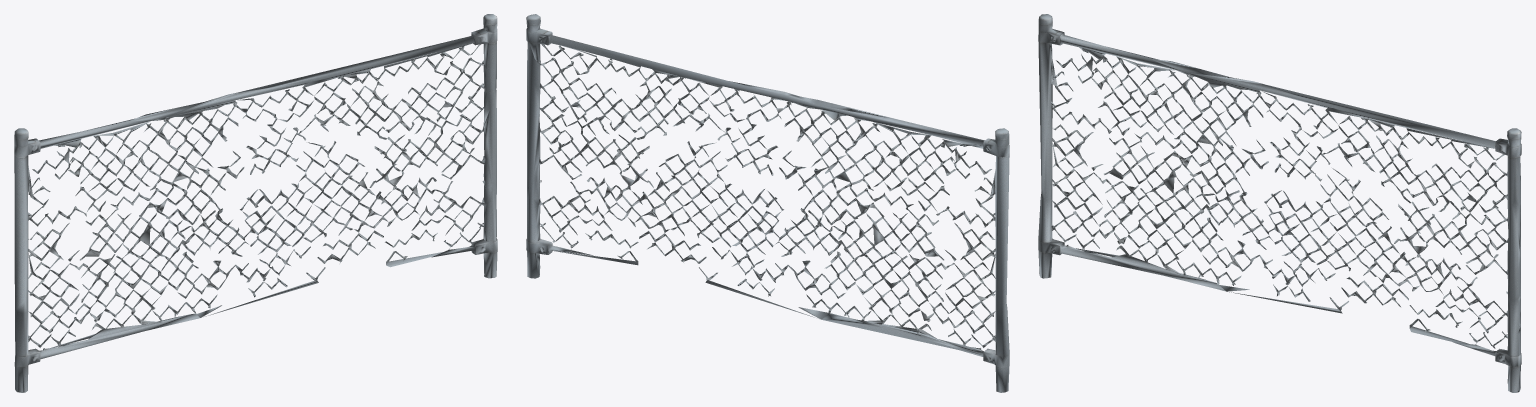
File: barrier_chainlink_source_model.glb
3 renders of one model, left to right at view 1: azimuth 30°, elevation 25°; view 2: azimuth 150°, elevation 25°; view 3: azimuth 330°, elevation 25°, orthographic.
Visible parts, largest first — view 1: Mesh_0.001; view 2: Mesh_0.001; view 3: Mesh_0.001.
Part boxes in pixels (x1,y1,x2,y2): Mesh_0.001: (14, 14, 497, 392); Mesh_0.001: (526, 14, 1009, 392); Mesh_0.001: (1038, 14, 1521, 392).
Bounding box in the file's own units: 3.48 × 1.8 × 0.0931.
Materials: 1 (1 with a texture image).
